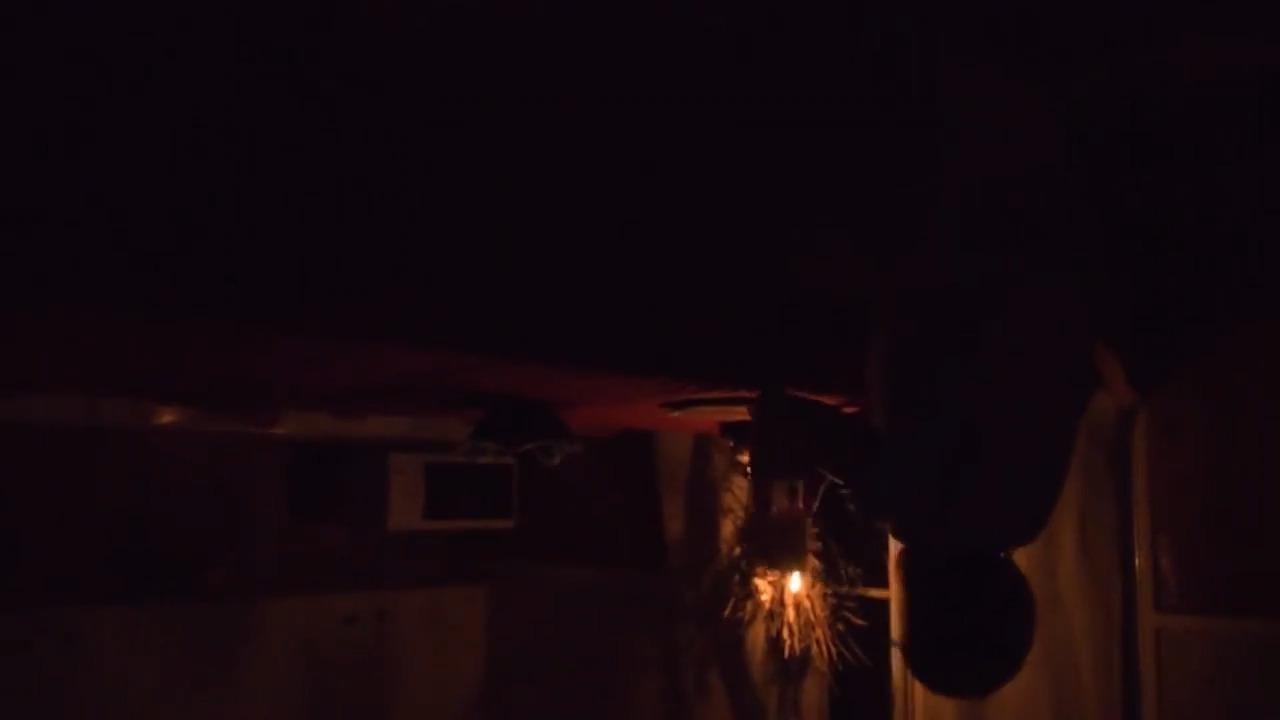fire: (752, 531, 832, 639)
